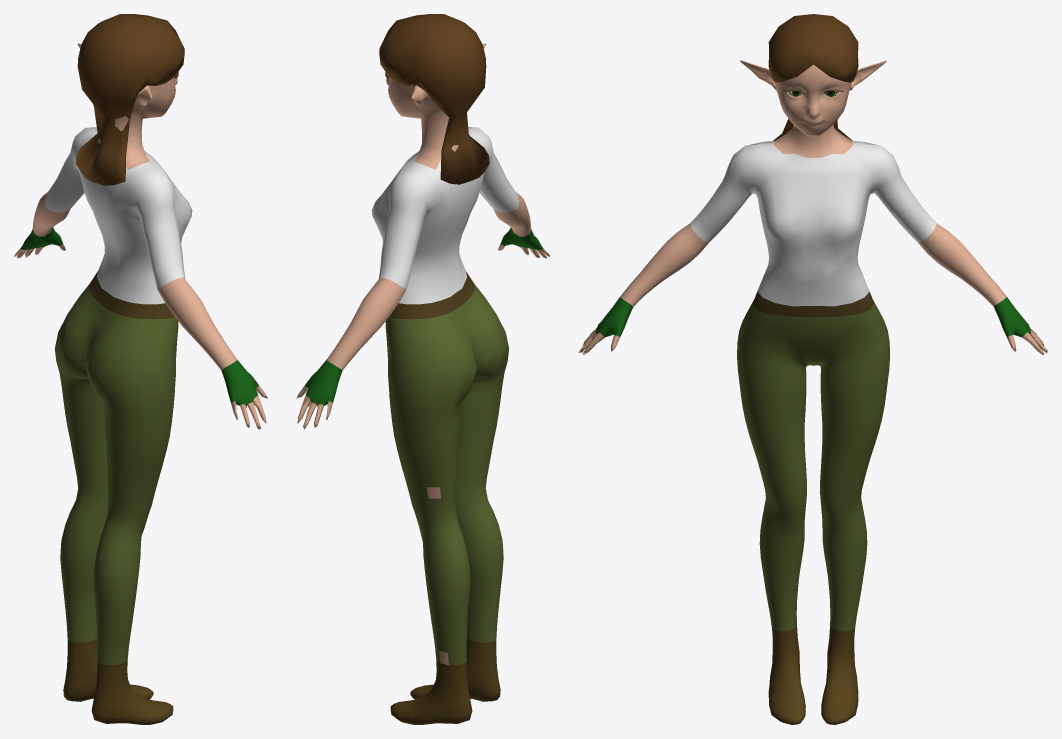
The model's file is baseperson_elf.glb.
3 renders of one model, left to right at view 1: azimuth 30°, elevation 25°; view 2: azimuth 150°, elevation 25°; view 3: azimuth 270°, elevation 25°, orthographic.
Parts seen in each view (by area): view 1: body_LP_Plane.008, Sphere.002_Sphere.001; view 2: body_LP_Plane.008, Sphere.002_Sphere.001; view 3: body_LP_Plane.008, Sphere.002_Sphere.001.
Boxes of the visible parts, x1,y1,x2,y2 form: body_LP_Plane.008: (14,43,267,724); Sphere.002_Sphere.001: (75,14,184,185); body_LP_Plane.008: (296,43,549,724); Sphere.002_Sphere.001: (379,14,489,184); body_LP_Plane.008: (578,60,1047,724); Sphere.002_Sphere.001: (768,14,858,140).
Bounding box in the file's own units: 1.23 × 8.09 × 4.97.
8 materials, 2 textured.
